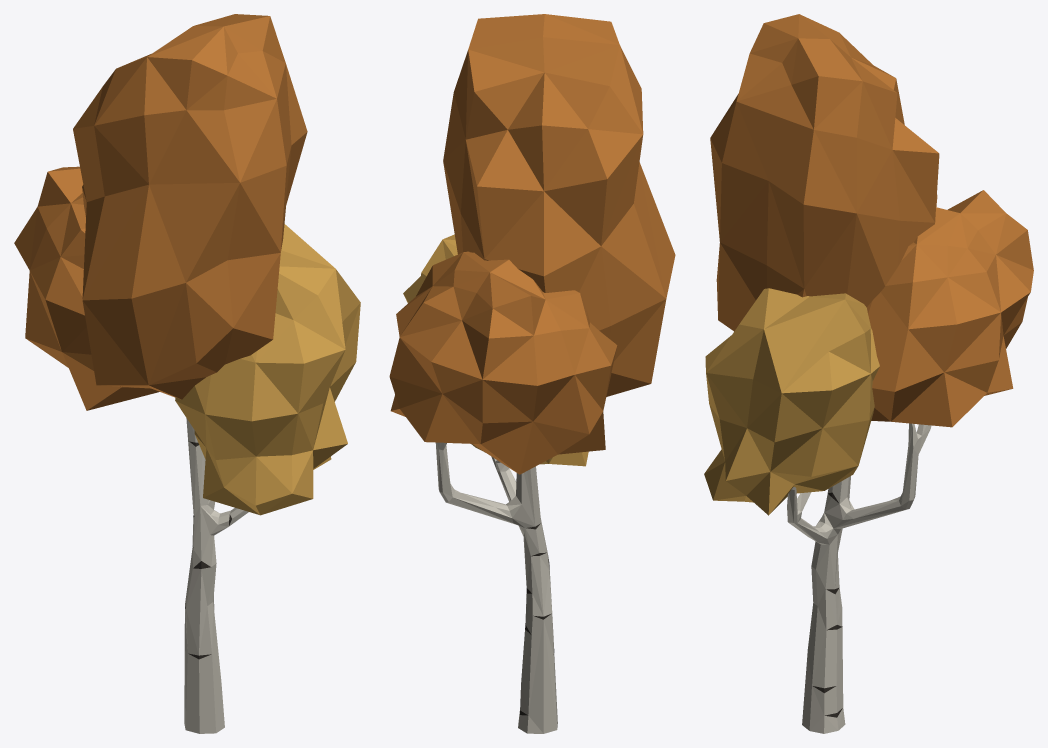
Rendered from BirchTree_Autumn_3.glb.
3 views of the same model, side by side, from view 1: azimuth 30°, elevation 25°; view 2: azimuth 150°, elevation 25°; view 3: azimuth 270°, elevation 25° (orthographic). The views are drawn at different scales.
Visible parts, largest first — view 1: BirchTree_Autumn_3; view 2: BirchTree_Autumn_3; view 3: BirchTree_Autumn_3.
Boxes of the visible parts, <box> form: BirchTree_Autumn_3: <box>14,14,360,733</box>; BirchTree_Autumn_3: <box>389,14,675,733</box>; BirchTree_Autumn_3: <box>704,14,1033,733</box>.
Size of the model in its own units: 1.57 by 4.08 by 1.77.
